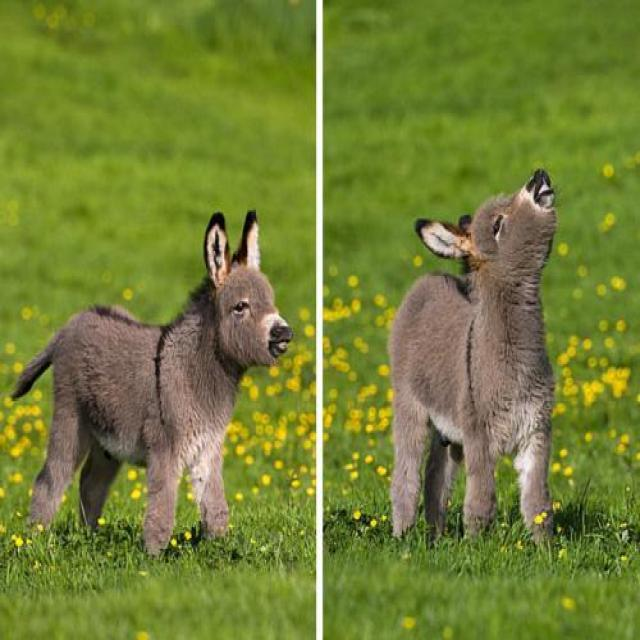Donkey: (15, 211, 294, 561), (388, 167, 562, 560)
